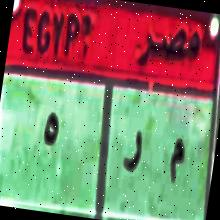5: (36, 109, 66, 151)
meem: (162, 129, 190, 188)
raa: (120, 123, 148, 184)
